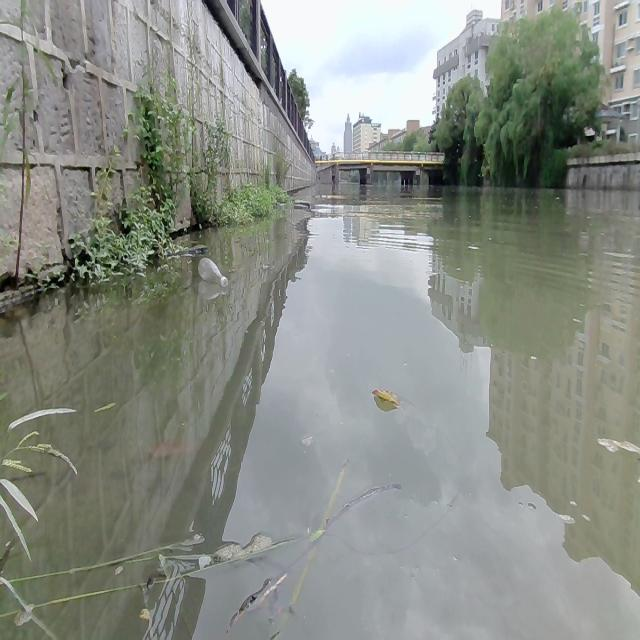bottle: (197, 252, 229, 288)
